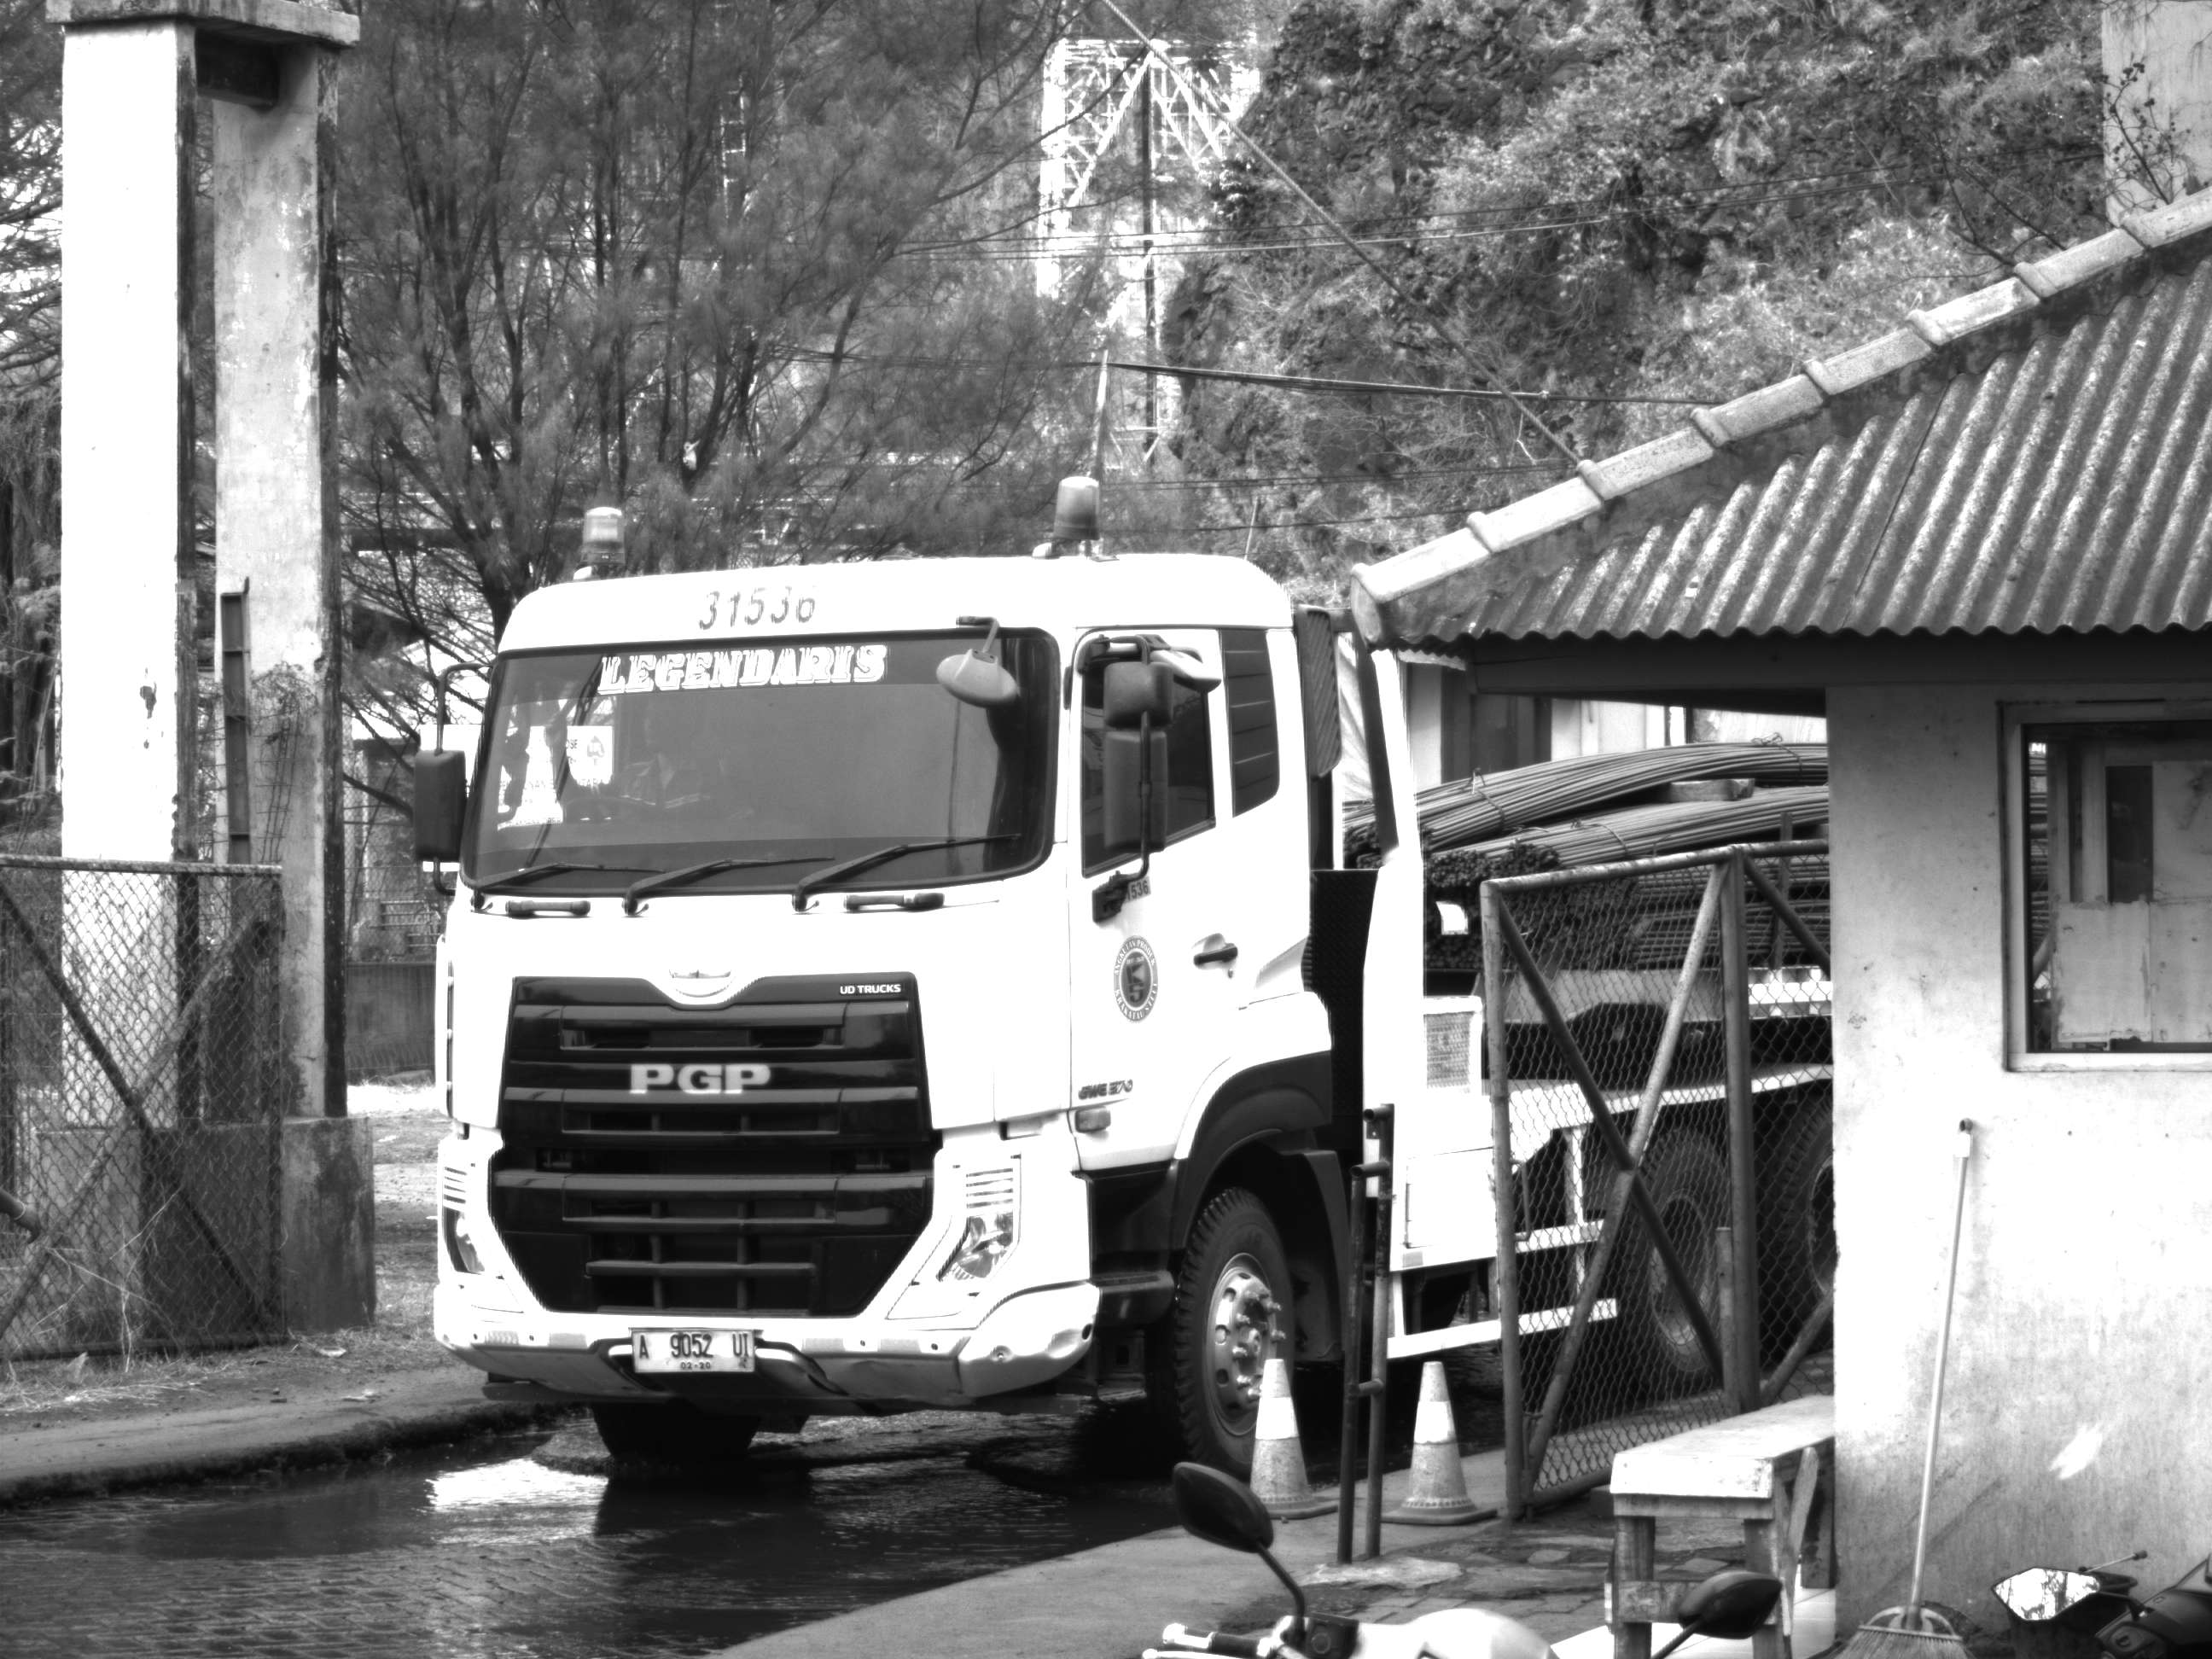day_truck_front: (427, 464, 1332, 1499)
plate: (626, 1326, 761, 1379)
